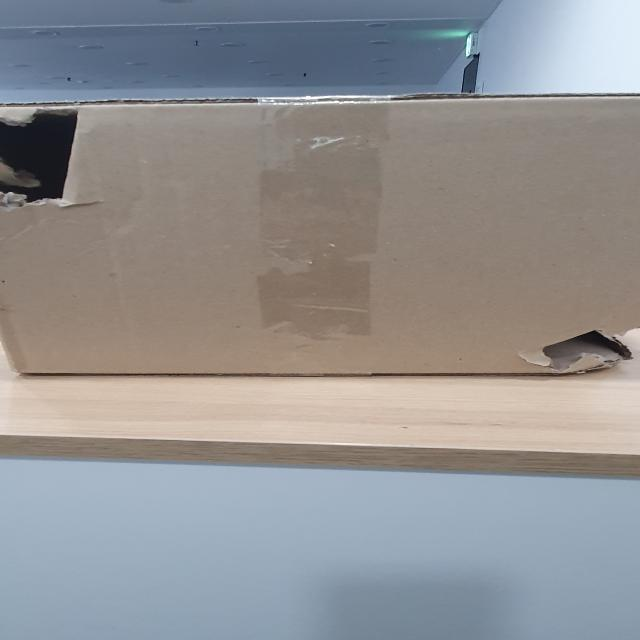hole: (0, 104, 91, 215), (521, 314, 639, 374)
